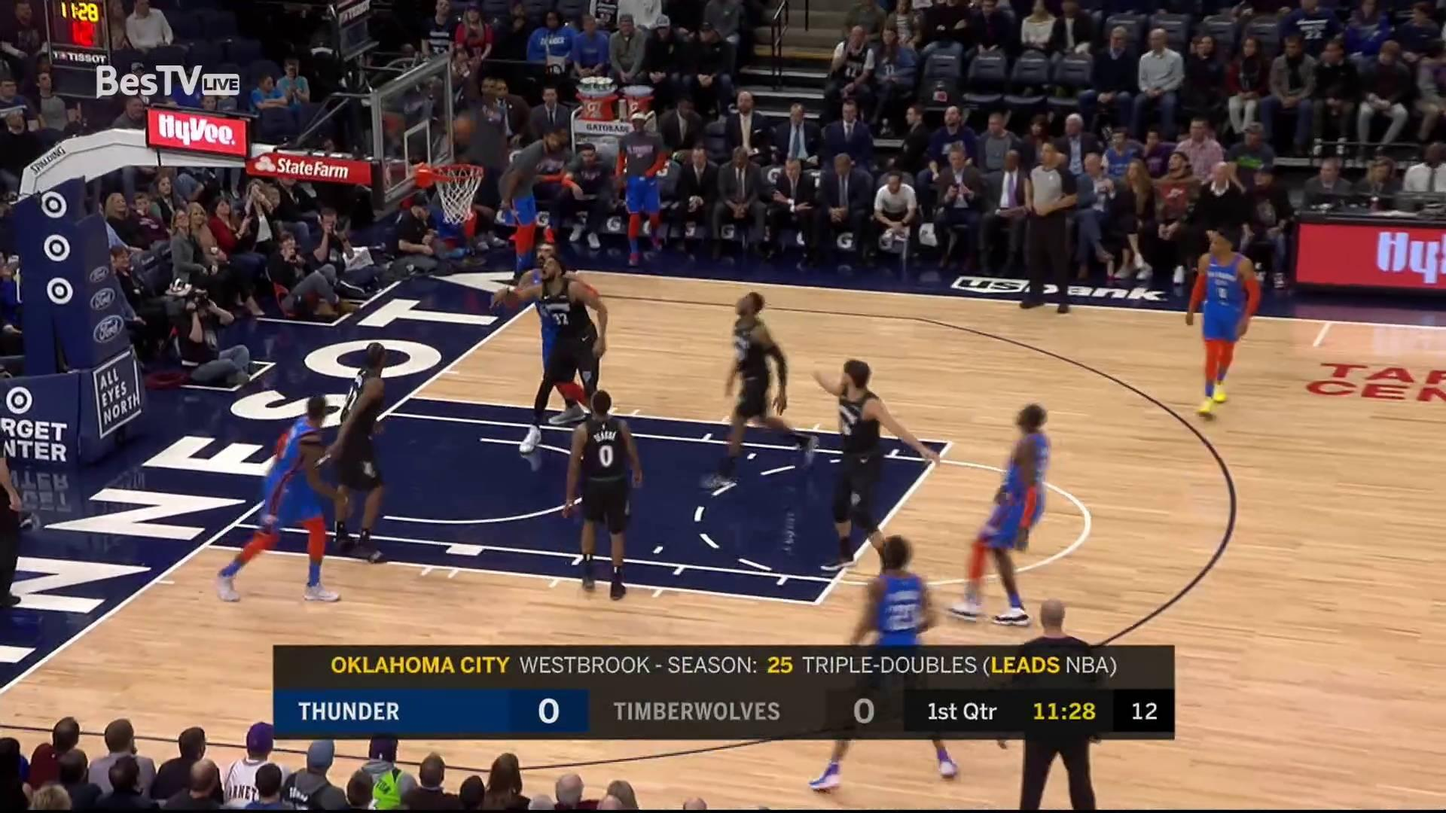basketball: (452, 114, 476, 141)
